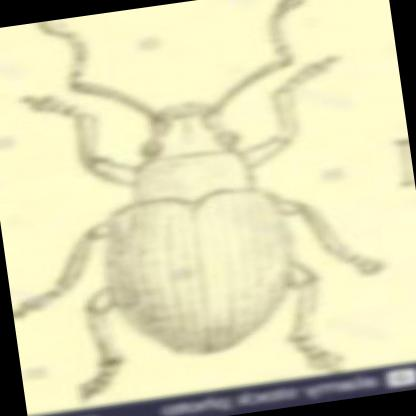ash weevil: (15, 0, 377, 399)
